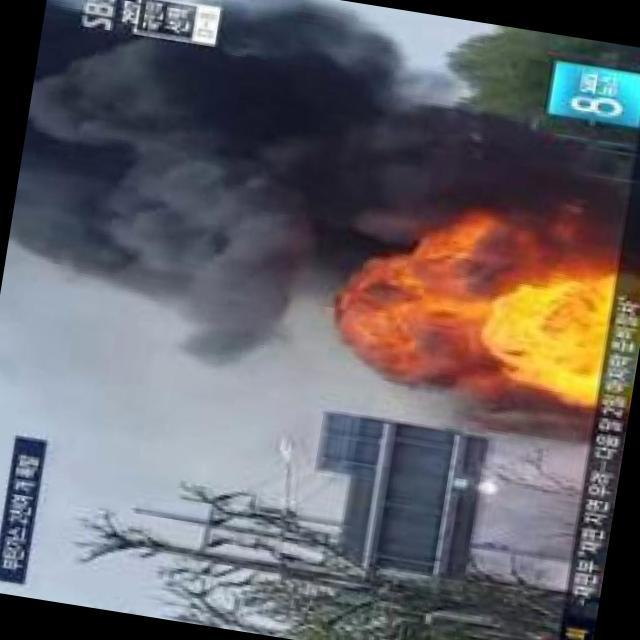Fire: (489, 254, 614, 411)
